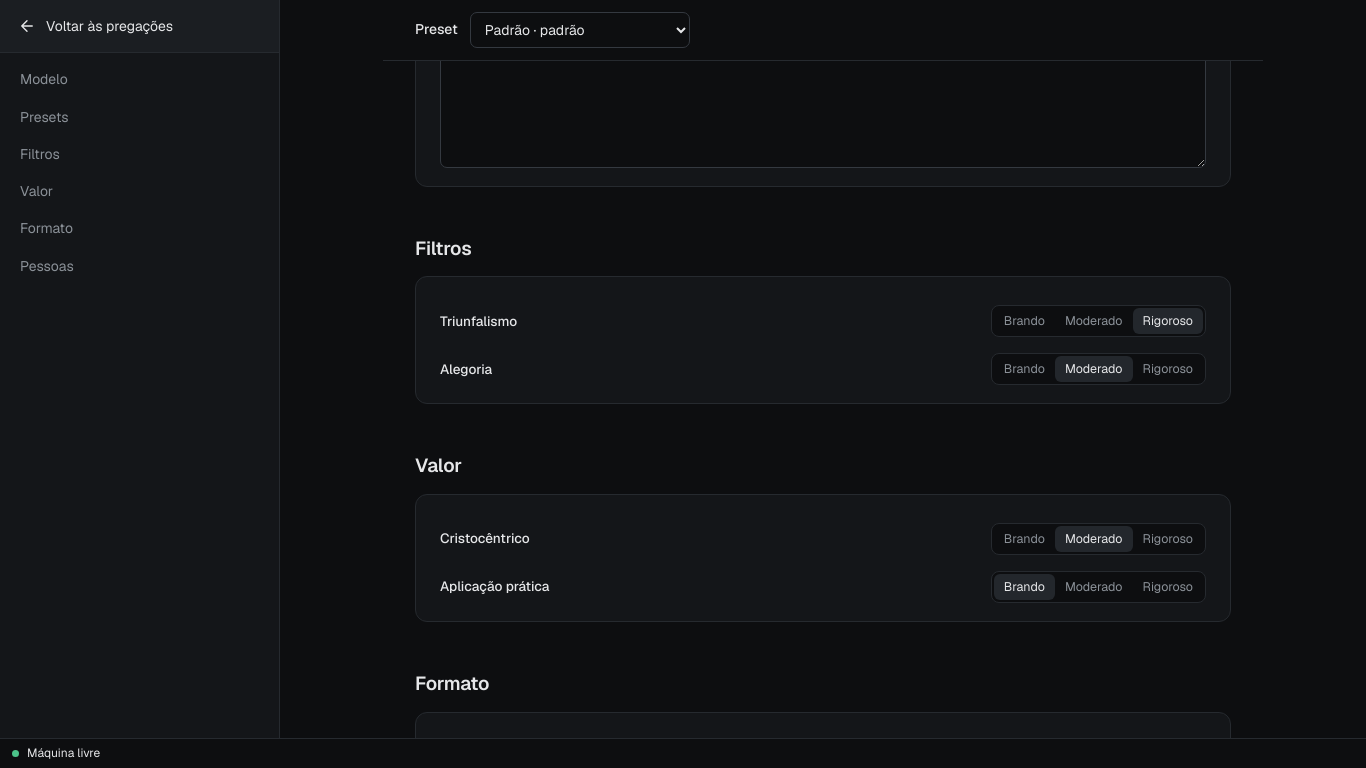
Test: saves only the level picked for one criterion, and says Salvo
(page scrolled)
Click the button "Rigoroso" in the row of "Alegoria" at [1168, 369], box [1132,356,1203,382]
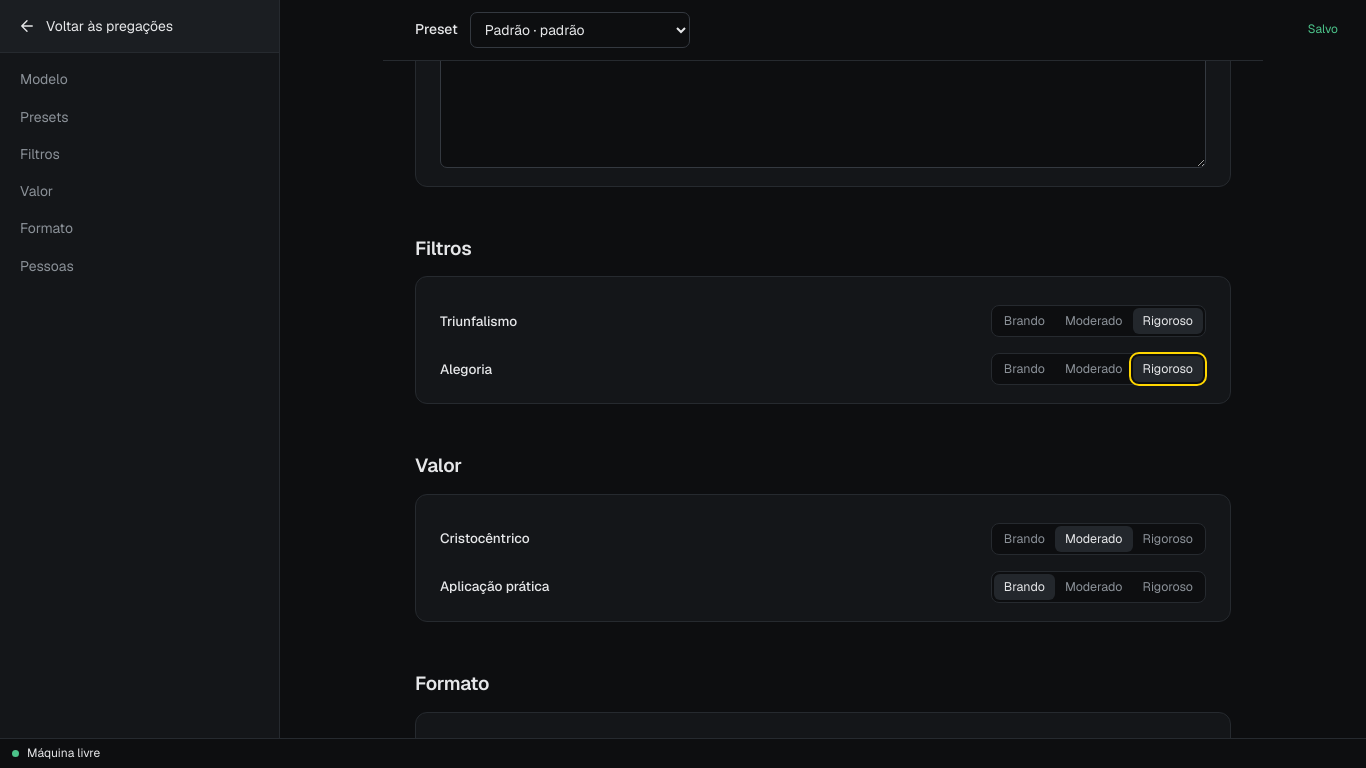
Expected: the text "Salvo" is shown, [1308,21,1338,37]
